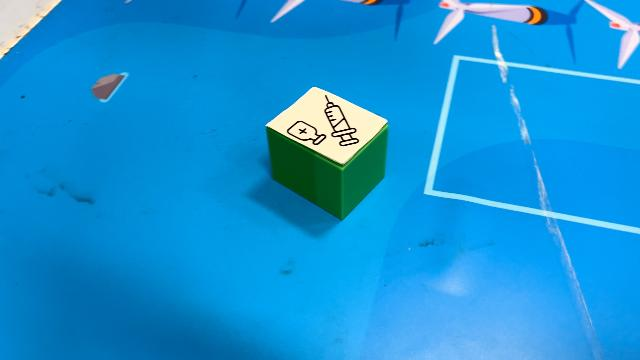syringe: (264, 84, 391, 222)
